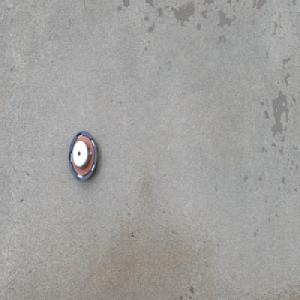FuelCap: (67, 129, 98, 184)
